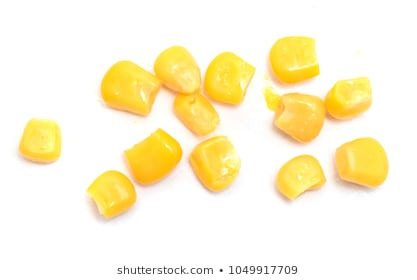corn: (98, 56, 163, 114), (120, 130, 184, 186), (187, 131, 241, 197), (331, 138, 388, 191), (264, 36, 323, 87), (205, 52, 258, 107), (88, 164, 141, 217), (18, 114, 65, 164)
